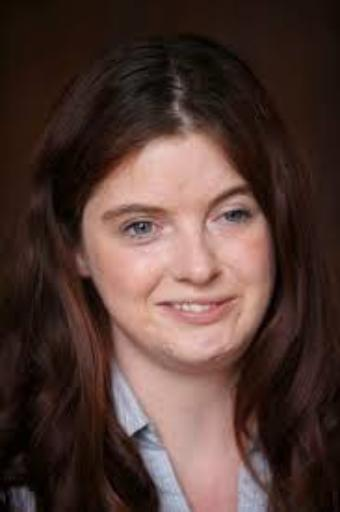left_eye: (213, 204, 257, 229)
left_lip_corner: (228, 291, 246, 312)
right_eye: (119, 218, 168, 243)
right_lip_corner: (153, 296, 169, 314)
